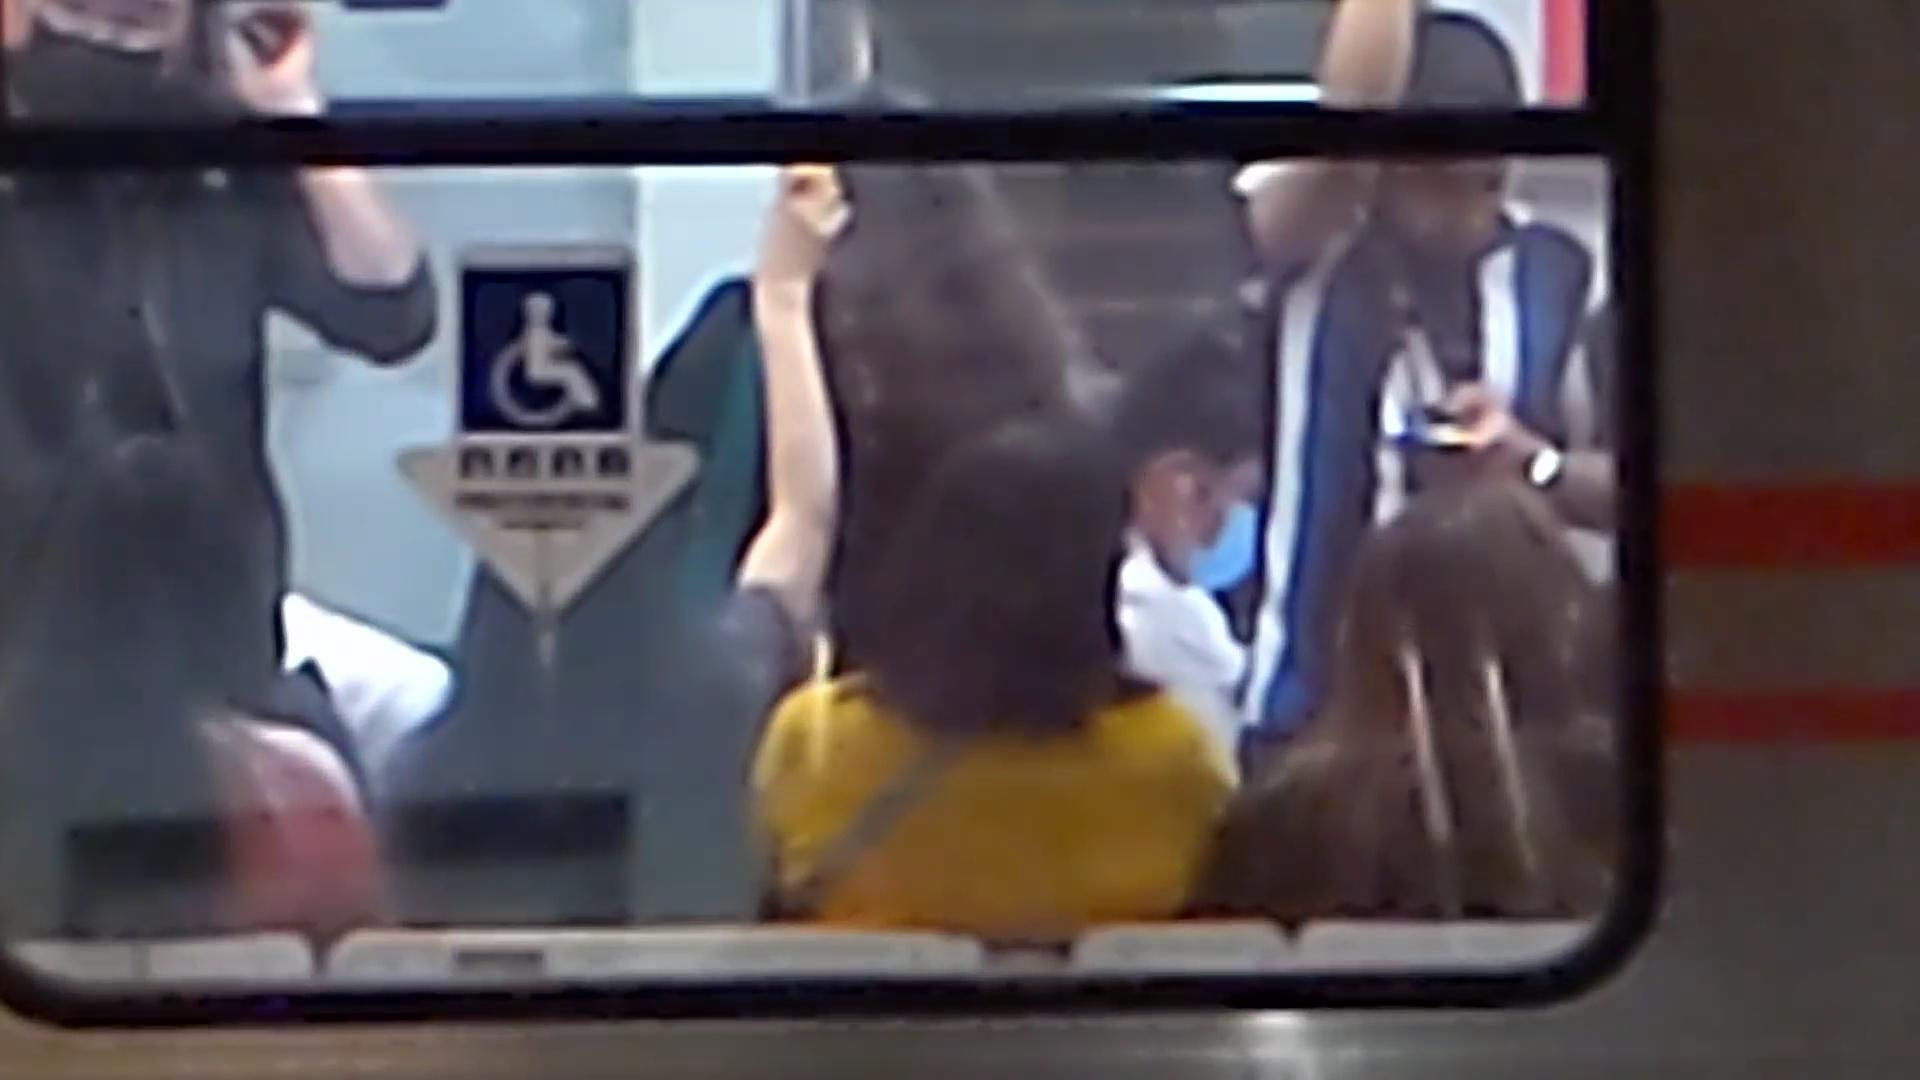handicapped symbol: (485, 289, 600, 431)
